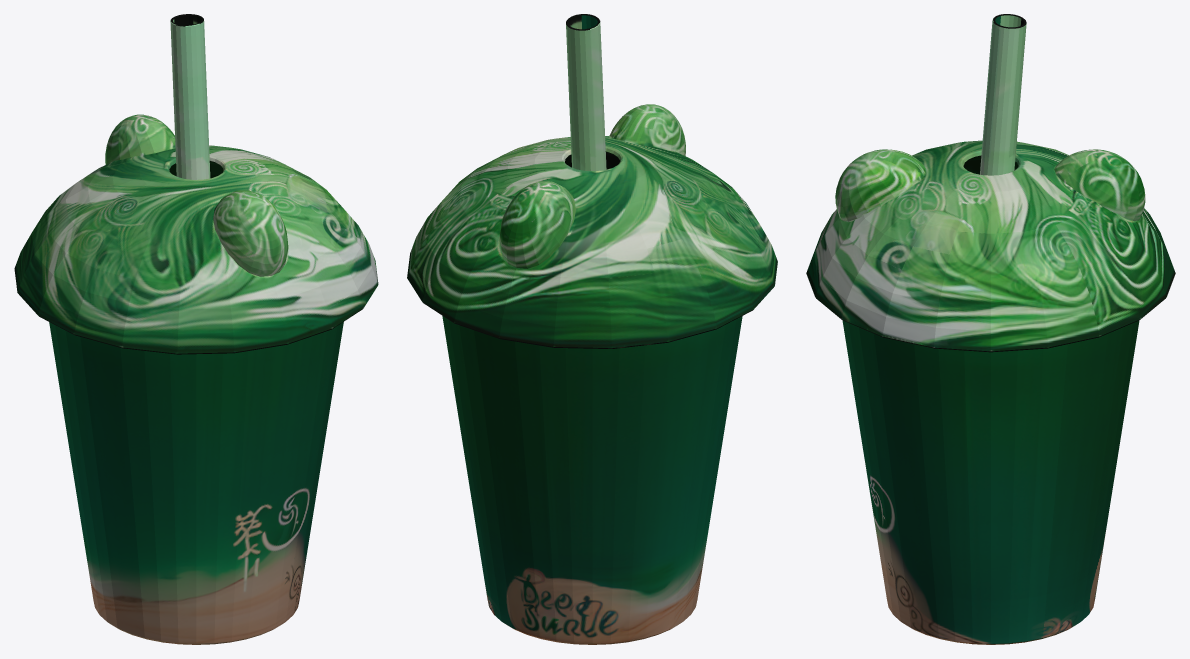
The picture shows the model from 3 angles, left to right: view 1: azimuth 30°, elevation 25°; view 2: azimuth 150°, elevation 25°; view 3: azimuth 270°, elevation 25°; orthographic projection.
Parts seen in each view (by area): view 1: textured.obj; view 2: textured.obj; view 3: textured.obj.
Boxes of the visible parts, box(x1,y1,x2,y2) form: textured.obj: box(14, 14, 378, 644); textured.obj: box(407, 14, 777, 644); textured.obj: box(806, 14, 1175, 644).
Size of the model in its own units: 1.15 by 2 by 1.15.
